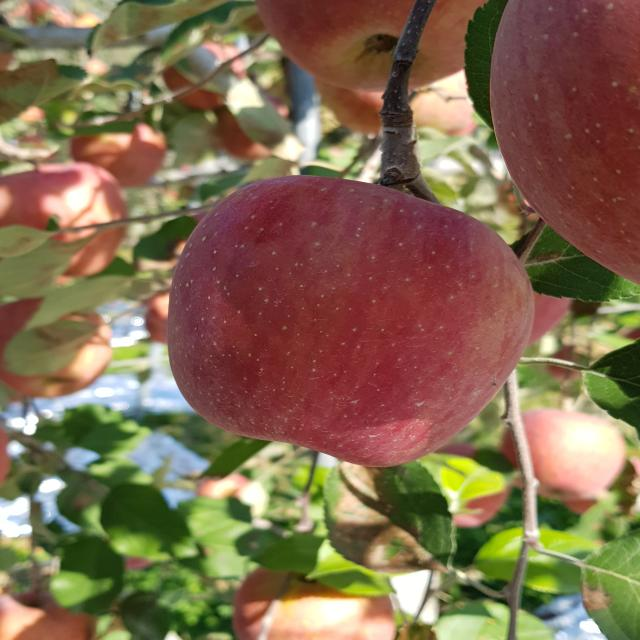fresh: (156, 170, 545, 473)
